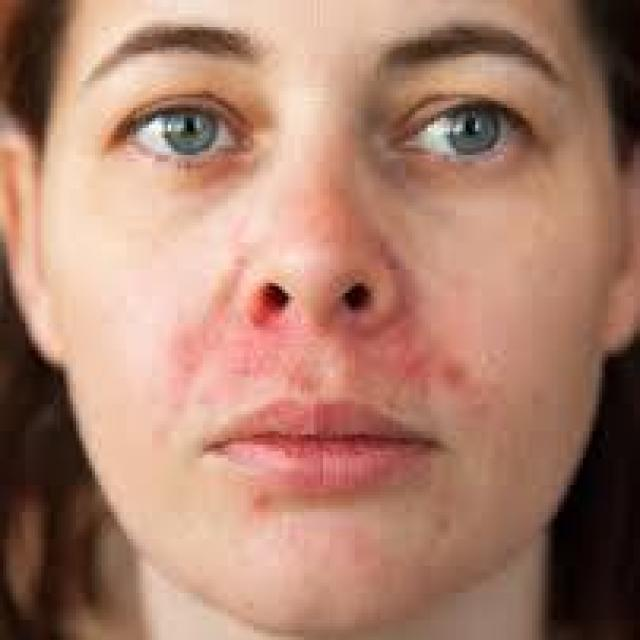Eczema: (154, 326, 489, 411)
